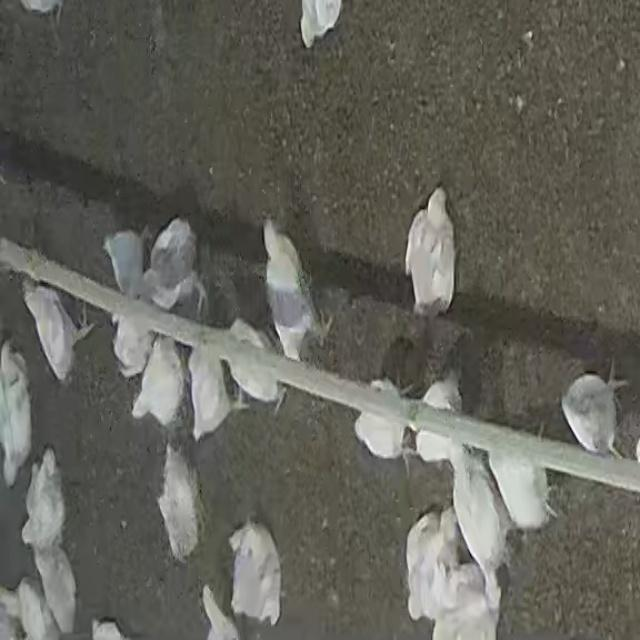chicken: (258, 217, 335, 370), (12, 276, 98, 386), (404, 182, 458, 320), (560, 357, 631, 458), (226, 520, 285, 626), (129, 332, 186, 428)
